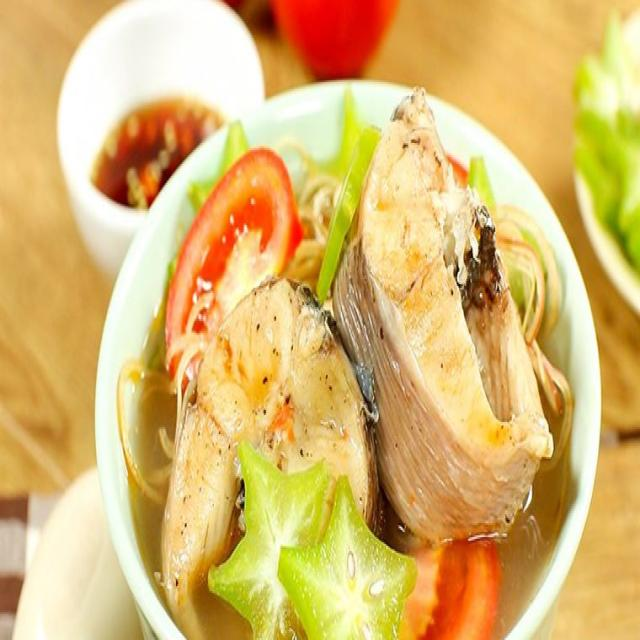canh chua: (137, 89, 568, 638)
